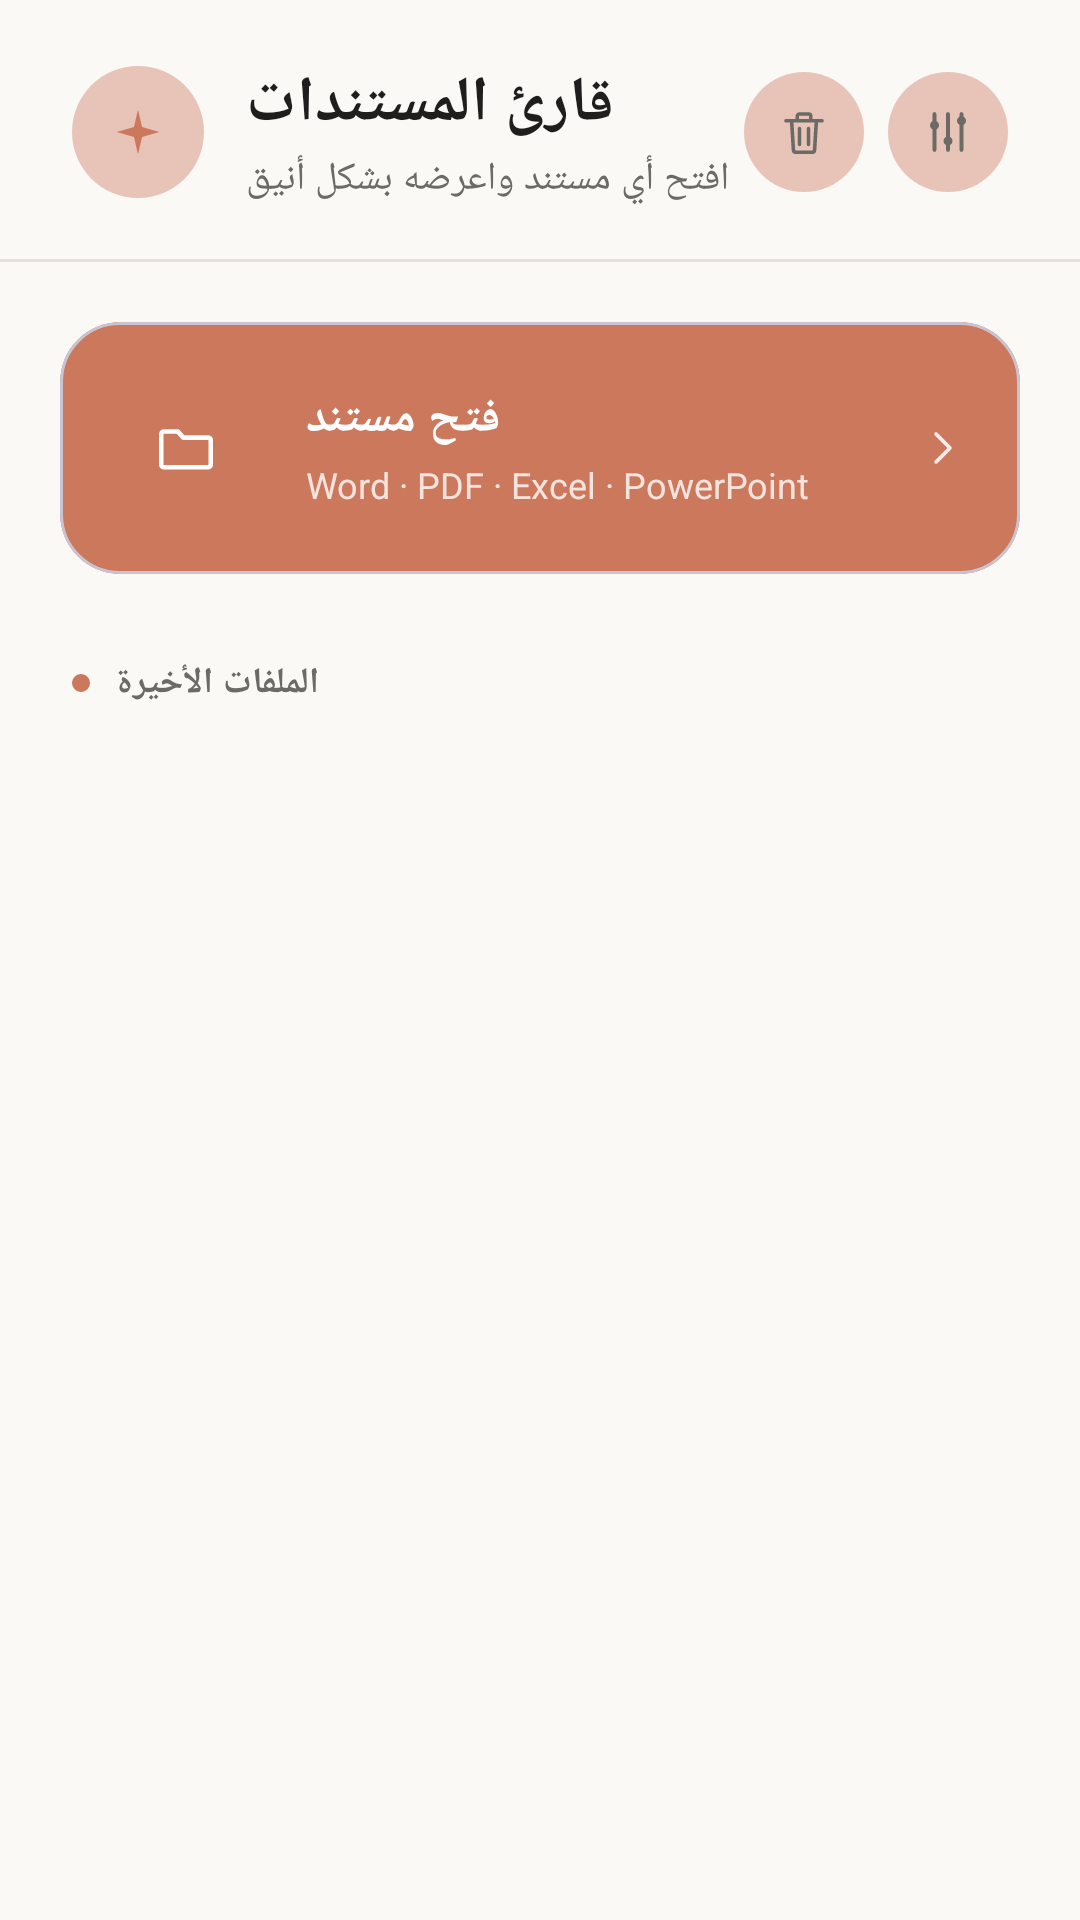

Screen size 1080x1920. Icon name, then its center in pixels as point (x, y):
chevron: point (943, 448)
folder: point (186, 449)
settings: point (948, 132)
sparkle: point (138, 132)
trash: point (804, 133)
